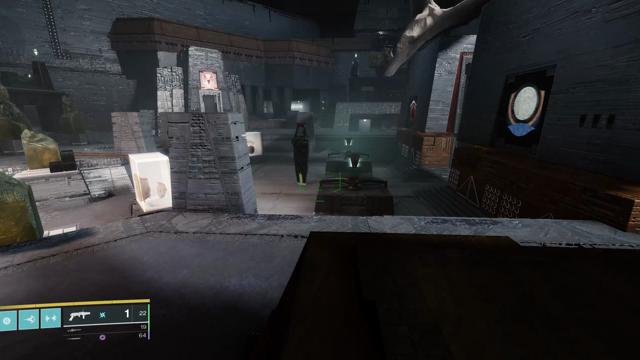pyramid: (409, 100, 417, 122)
traveler: (505, 82, 545, 136)
